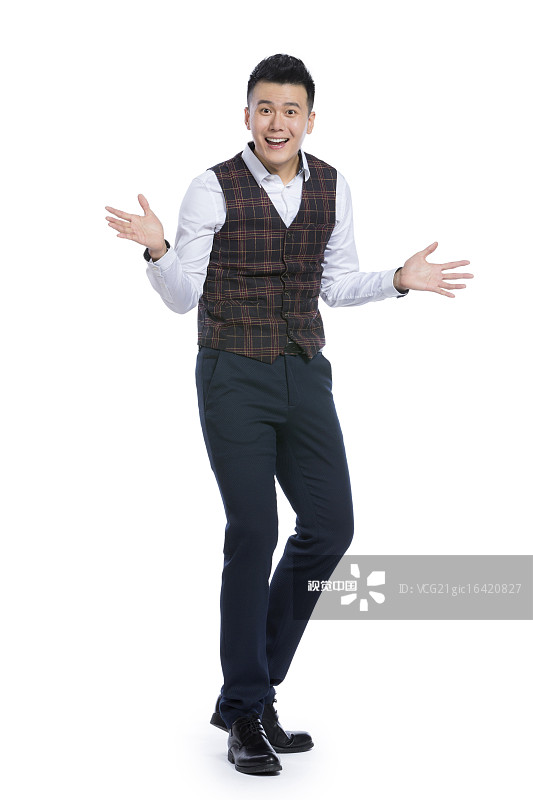no-phone: (386, 218, 480, 319), (81, 175, 174, 259)
